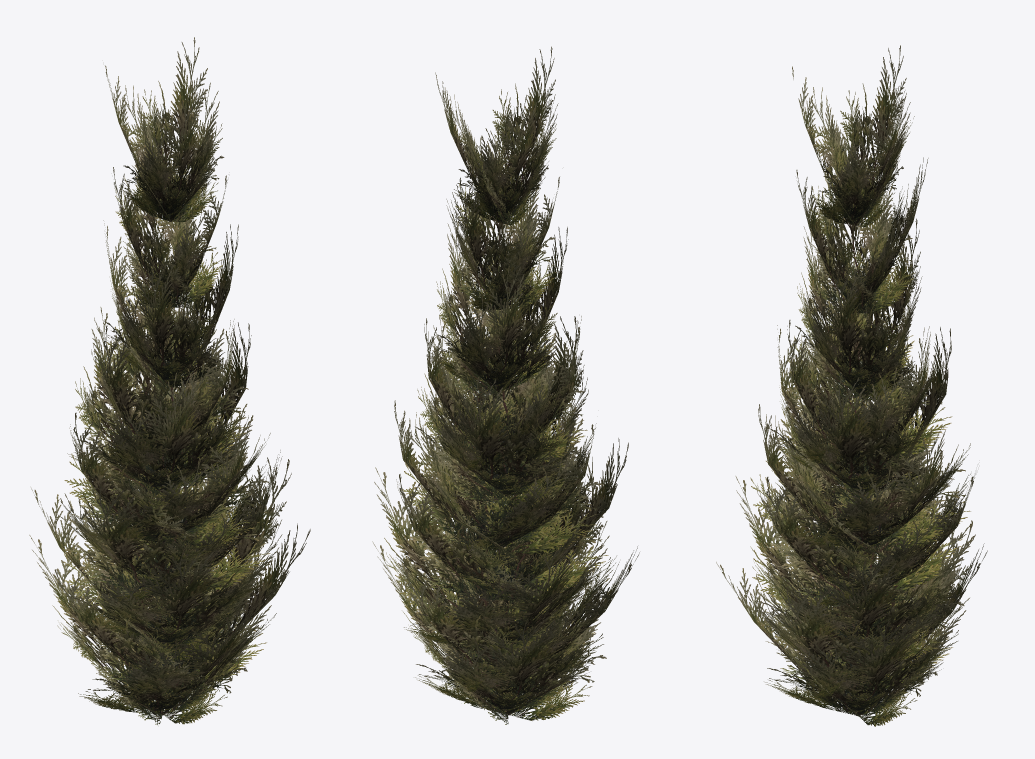
File: manorBush_A.fbx
The picture shows the model from 3 angles, left to right: view 1: azimuth 30°, elevation 25°; view 2: azimuth 150°, elevation 25°; view 3: azimuth 270°, elevation 25°; orthographic projection.
Parts seen in each view (by area): view 1: manorBush_A; view 2: manorBush_A; view 3: manorBush_A.
Boxes of the visible parts, box(x1,y1,x2,y2) form: manorBush_A: box(29, 37, 310, 724); manorBush_A: box(372, 46, 639, 724); manorBush_A: box(716, 45, 987, 726).
Bounding box in the file's own units: 9.85 × 23.08 × 10.15.
